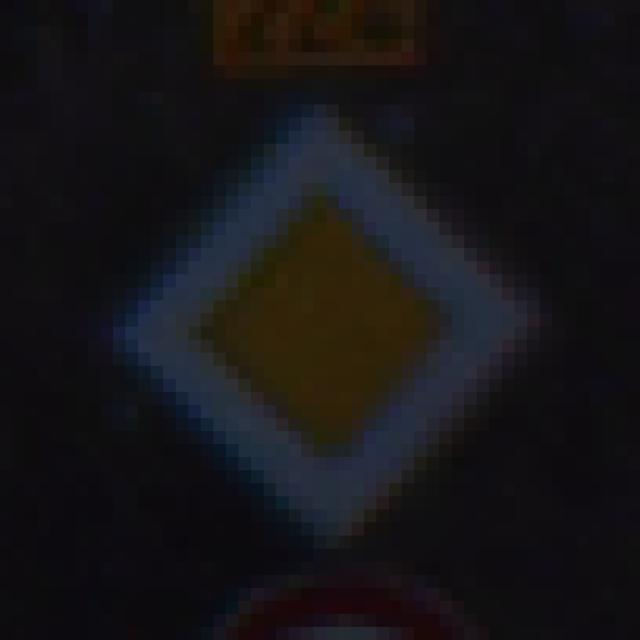Main Road: (64, 66, 578, 576)
